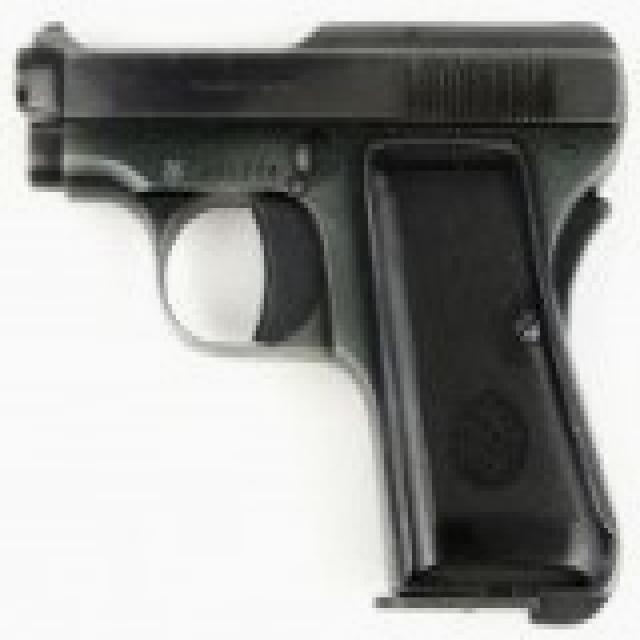pistol: (24, 6, 628, 630)
